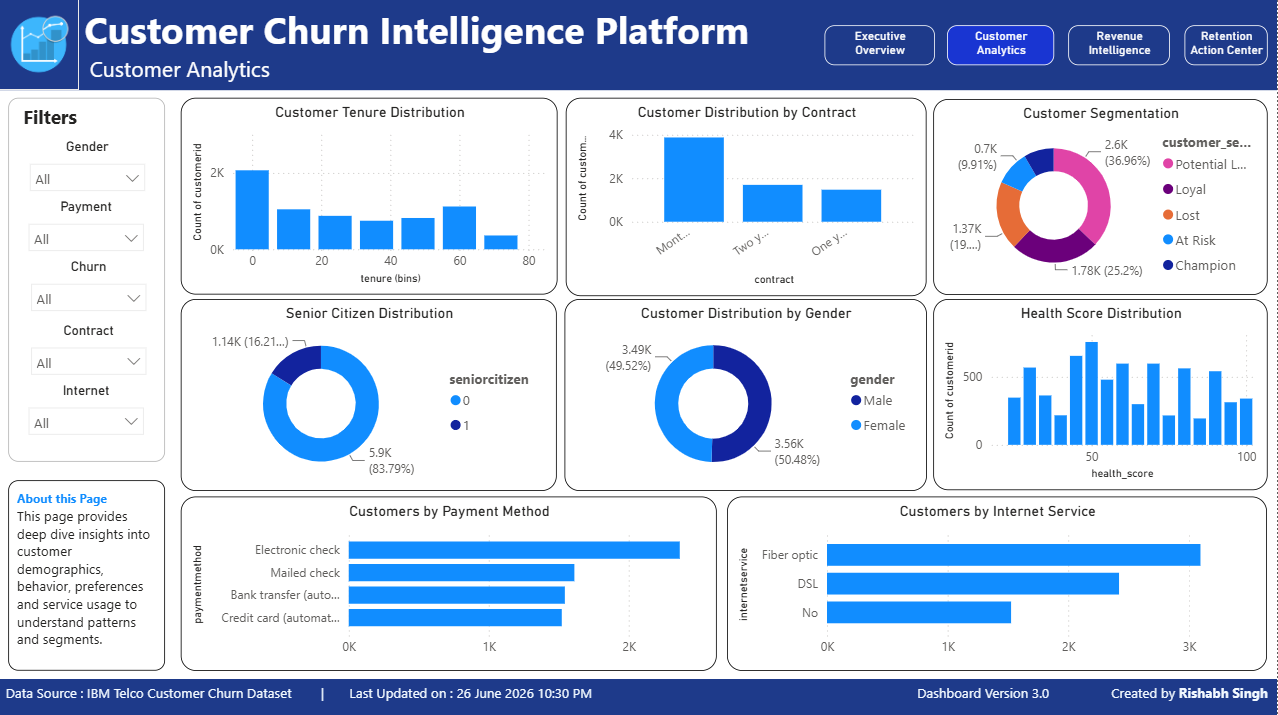

The dashboard page shown, as its layout file describes it:
{"tool":"powerbi","page":{"name":"Customer Aalytics","canvas":[1280,720],"ordinal":1},"visuals":[{"type":"donutChart","title":"Customer Distribution by Gender","fields":{"Category":["Customer Dashboard.gender"],"Y":["CountNonNull(Customer Dashboard.customerid)"]},"box":[567.1,300,355.7,192],"z":0},{"type":"donutChart","title":"Senior Citizen Distribution","fields":{"Category":["Customer Dashboard.seniorcitizen"],"Y":["CountNonNull(Customer Dashboard.customerid)"]},"box":[184.3,300,368.6,192],"z":1000},{"type":"clusteredBarChart","title":"Customers by Internet Service","fields":{"Category":["Customer Dashboard.internetservice"],"Y":["CountNonNull(Customer Dashboard.customerid)"]},"box":[730,497.1,540,174.3],"z":2000},{"type":"clusteredBarChart","title":"Customers by Payment Method","fields":{"Category":["Customer Dashboard.paymentmethod"],"Y":["CountNonNull(Customer Dashboard.customerid)"]},"box":[184.3,497.1,535.7,174.3],"z":3000},{"type":"columnChart","title":"Customer Distribution by Contract","fields":{"Category":["Customer Dashboard.contract"],"Y":["CountNonNull(Customer Dashboard.customerid)"]},"box":[568.6,98.6,355.7,198.6],"z":4000},{"type":"donutChart","title":"Customer Segmentation","fields":{"Category":["Customer Dashboard.customer_segment"],"Y":["CountNonNull(Customer Dashboard.customerid)"]},"box":[935.7,100,334.3,195.7],"z":5000},{"type":"columnChart","title":"Health Score Distribution","fields":{"Category":["Customer Dashboard.health_score"],"Y":["CountNonNull(Customer Dashboard.customerid)"]},"box":[937.1,301.4,332.9,192],"z":6000},{"type":"clusteredColumnChart","title":"Customer Tenure Distribution","fields":{"Category":["Customer Dashboard.tenure (bins)"],"Y":["CountNonNull(Customer Dashboard.customerid)"]},"box":[184.3,98.6,368.6,197.1],"z":7000},{"type":"shape","box":[11.4,98.6,157.1,364.3],"z":7001},{"type":"slicer","title":"Gender","fields":{"Values":["Customer Dashboard.gender"]},"box":[22.9,140,135.7,60],"z":7002},{"type":"slicer","title":"Payment","fields":{"Values":["Customer Dashboard.paymentmethod"]},"box":[21.4,200,135.7,77.1],"z":7003},{"type":"slicer","title":"Internet","fields":{"Values":["Customer Dashboard.internetservice"]},"box":[21.4,384.3,135.7,61.4],"z":7004},{"type":"slicer","title":"Churn","fields":{"Values":["Customer Dashboard.churn"]},"box":[24.3,260,135.7,78.6],"z":7005},{"type":"slicer","title":"Contract","fields":{"Values":["Customer Dashboard.contract"]},"box":[24.3,324.3,135.7,60],"z":7006},{"type":"textbox","box":[21.4,100,122.9,38.6],"z":7007},{"type":"group","id":"g1","title":"Group 1","box":[0,0,1280,91.4],"z":7008},{"type":"textbox","box":[0,680,1280,40],"z":7009},{"type":"textbox","box":[11.4,481.4,157.1,190],"z":7010},{"type":"textbox","box":[0,0,1280,91.4],"z":11000,"group":"g1"},{"type":"actionButton","title":"Executive Overview","box":[827.1,25.7,110,40],"z":17000,"group":"g1"},{"type":"actionButton","title":"Revenue Intelligence","box":[1071.4,25.7,101.4,40],"z":18000,"group":"g1"},{"type":"actionButton","title":"Retention Action Center","box":[1187.1,25.7,82.9,40],"z":19000,"group":"g1"},{"type":"actionButton","title":"Customer Analytics","box":[950,25.7,107.1,40],"z":20000,"group":"g1"}]}

Visuals, with their boxes in screenshot pixels (x1, y1, x2, y2), scaled from the page's 1280x720 canvas onto the 1278x715 screenshot:
"Customer Distribution by Gender" donutChart: BBox(566, 298, 921, 489)
"Senior Citizen Distribution" donutChart: BBox(184, 298, 552, 489)
"Customers by Internet Service" clusteredBarChart: BBox(729, 494, 1268, 667)
"Customers by Payment Method" clusteredBarChart: BBox(184, 494, 719, 667)
"Customer Distribution by Contract" columnChart: BBox(568, 98, 923, 295)
"Customer Segmentation" donutChart: BBox(934, 99, 1268, 294)
"Health Score Distribution" columnChart: BBox(936, 299, 1268, 490)
"Customer Tenure Distribution" clusteredColumnChart: BBox(184, 98, 552, 294)
shape: BBox(11, 98, 168, 460)
"Gender" slicer: BBox(23, 139, 158, 199)
"Payment" slicer: BBox(21, 199, 157, 275)
"Internet" slicer: BBox(21, 382, 157, 443)
"Churn" slicer: BBox(24, 258, 160, 336)
"Contract" slicer: BBox(24, 322, 160, 382)
textbox: BBox(21, 99, 144, 138)
"Group 1" group: BBox(0, 0, 1277, 91)
textbox: BBox(0, 675, 1277, 714)
textbox: BBox(11, 478, 168, 667)
textbox: BBox(0, 0, 1277, 91)
"Executive Overview" actionButton: BBox(826, 26, 936, 65)
"Revenue Intelligence" actionButton: BBox(1070, 26, 1171, 65)
"Retention Action Center" actionButton: BBox(1185, 26, 1268, 65)
"Customer Analytics" actionButton: BBox(949, 26, 1055, 65)
